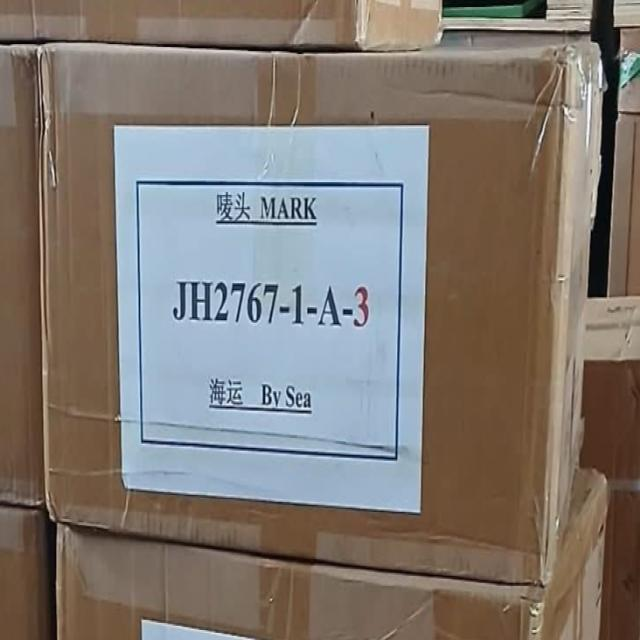carton_box: (31, 32, 618, 607)
export_mark_label: (104, 114, 435, 513)
package_damage: (26, 39, 72, 227)
